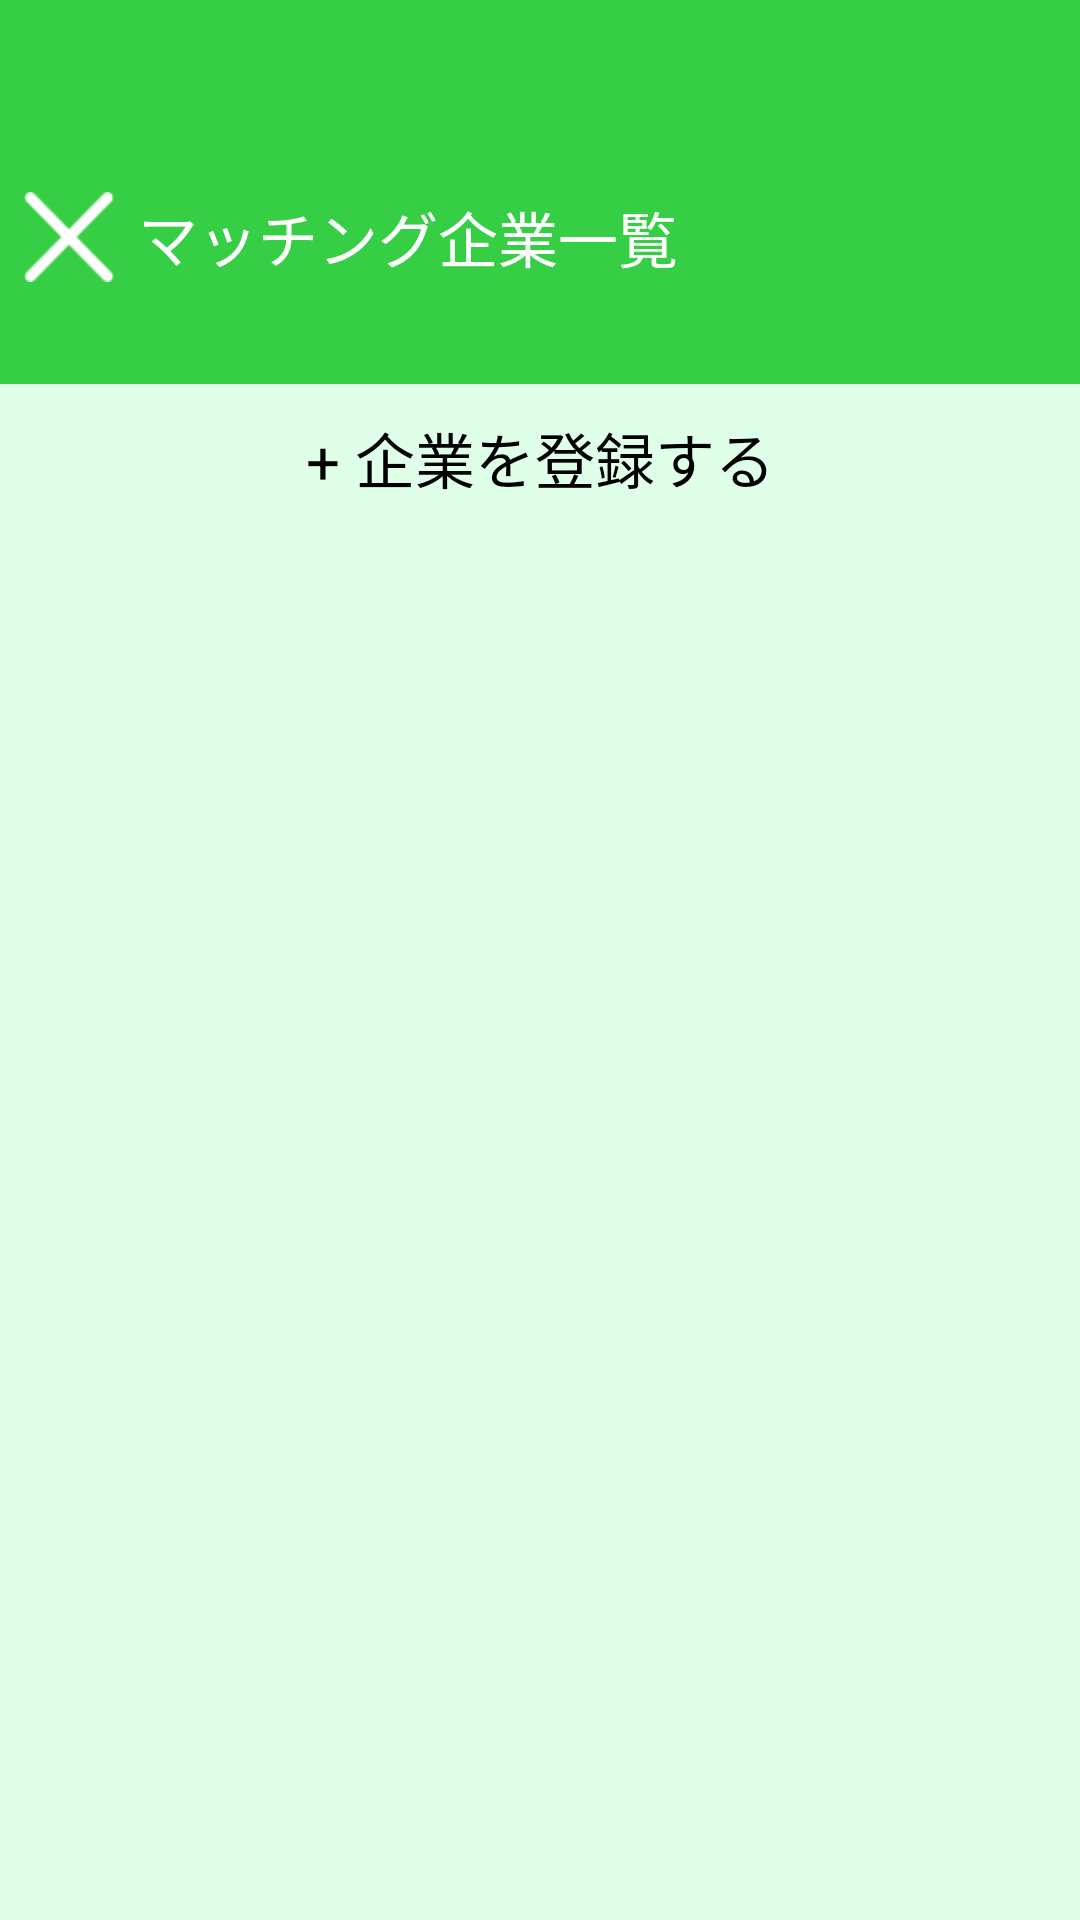

Where icons sit on this 1080 × 1920 app screen, as {"left": x1, "top": y1, "right": x2, "bottom": y2}:
back: {"left": 24, "top": 192, "right": 114, "bottom": 282}
